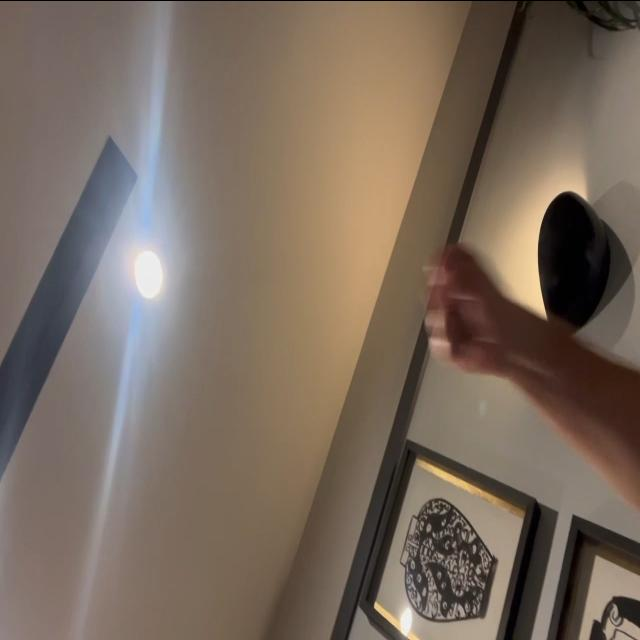Rock: (421, 235, 509, 377)
